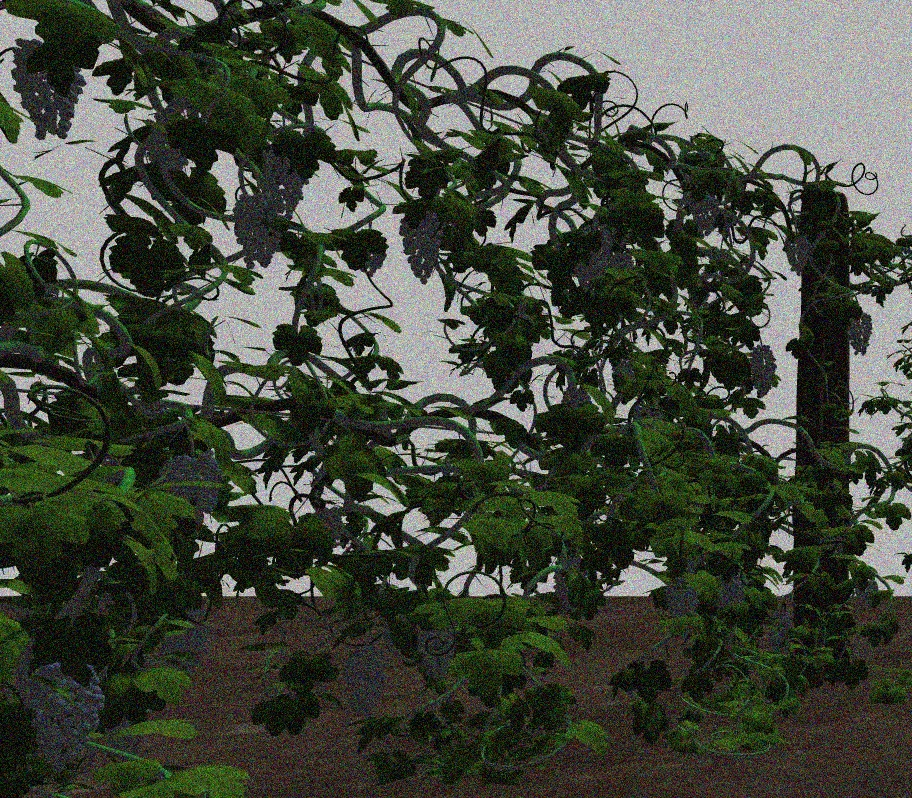grape: (24, 661, 106, 773), (10, 39, 86, 140), (231, 194, 285, 269), (397, 209, 446, 283), (165, 451, 223, 512), (343, 645, 389, 714), (163, 611, 211, 673), (259, 149, 305, 211), (416, 620, 457, 682), (577, 225, 612, 290), (750, 345, 778, 399), (665, 581, 700, 617), (691, 192, 720, 234), (849, 311, 874, 356), (785, 232, 810, 275), (769, 611, 793, 652), (855, 581, 881, 607)
